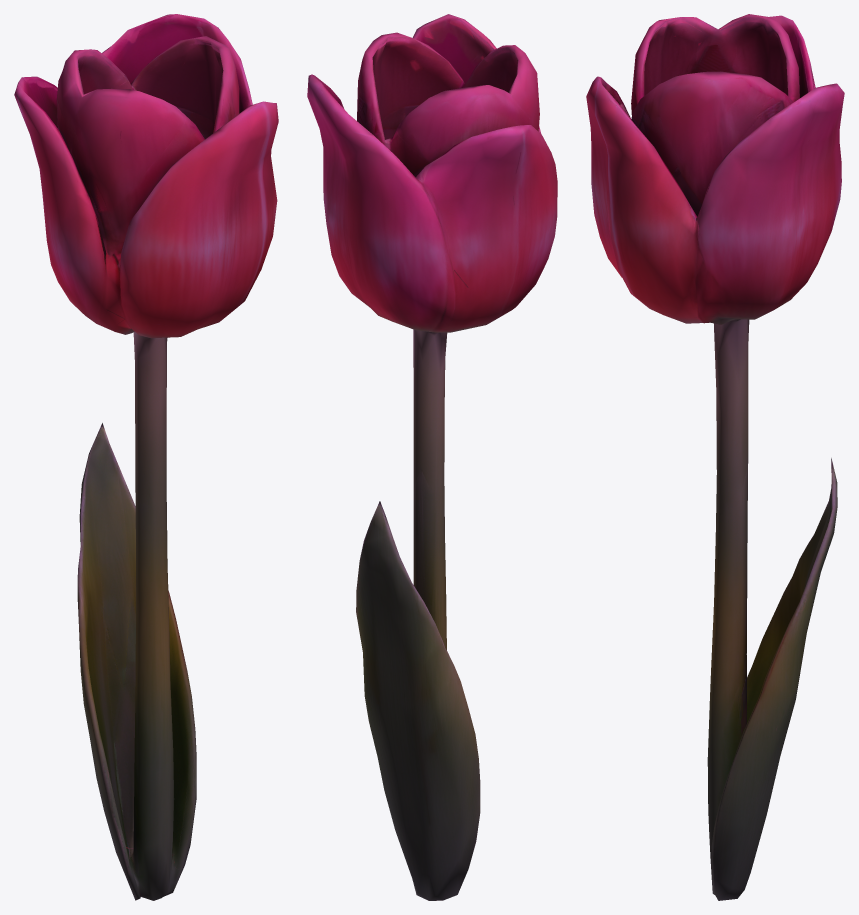
File: purple_tulip.glb
3 renders of one model, left to right at view 1: azimuth 30°, elevation 25°; view 2: azimuth 150°, elevation 25°; view 3: azimuth 270°, elevation 25°, orthographic.
Parts seen in each view (by area): view 1: Mesh_0; view 2: Mesh_0; view 3: Mesh_0.
Part boxes in pixels (<box>): Mesh_0: <box>14,14,278,900</box>; Mesh_0: <box>307,14,557,900</box>; Mesh_0: <box>586,14,844,900</box>.
Size of the model in its own units: 0.1472 by 0.55 by 0.1516.
Materials: 1 (1 with a texture image).
